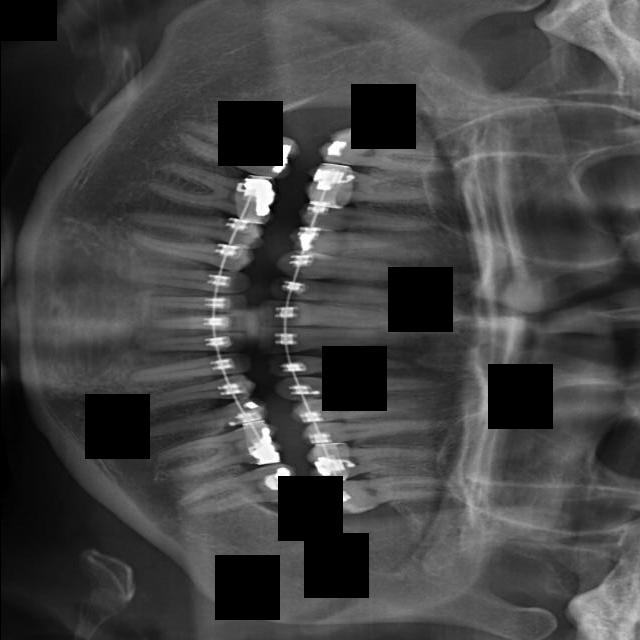AGS Medikal Implant: (182, 467, 301, 516)
AMerOss Implant: (150, 425, 279, 482)
Amalgam filling: (327, 125, 441, 176)
Anthogyr Implant: (137, 400, 270, 446)
Bicon Implant: (131, 379, 245, 410)
BioHorizons Implant: (141, 352, 248, 387)
BioLife Implant: (146, 335, 236, 355)
Blue Sky Bio Implant: (146, 313, 246, 333)
Camlog Implant: (139, 289, 239, 312)
Caries: (279, 355, 399, 378)
Composite filling: (134, 262, 245, 296)
Cowellmedi Implant: (131, 234, 251, 272)
Crown: (133, 208, 258, 245)
DENTSPLY Implant: (307, 164, 443, 221)
Dentatus Implant: (140, 151, 275, 220)
Dentis Implant: (175, 118, 296, 181)
Euroteknika Implant: (304, 205, 439, 232)
Filling: (294, 229, 436, 263)
Frontier Implant: (270, 249, 414, 285)
Implant: (259, 297, 405, 331)
Implant Direct: (275, 278, 410, 307)
Keystone Dental Implant: (263, 319, 403, 357)
MIS Implant: (294, 392, 414, 422)
Mandible: (309, 422, 448, 443)
Maxilla: (314, 437, 440, 482)
Megagen Implant: (325, 463, 438, 515)
